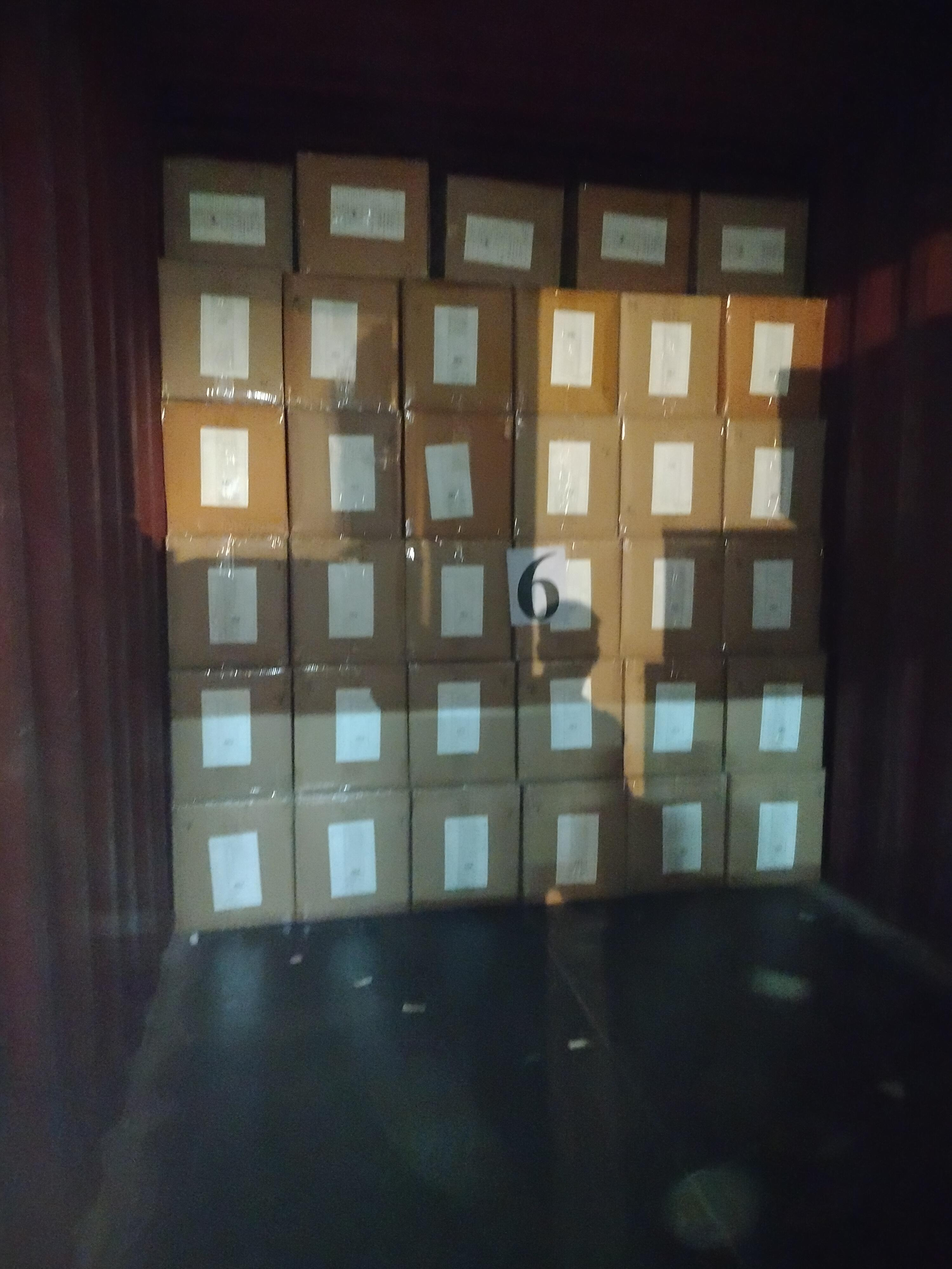carton: (159, 260, 283, 404), (162, 400, 288, 537), (295, 152, 429, 279), (170, 666, 293, 802), (172, 795, 294, 931), (283, 273, 399, 413), (167, 534, 288, 668), (294, 789, 410, 920), (289, 536, 406, 665), (163, 155, 293, 271), (400, 279, 512, 413), (287, 408, 403, 537), (293, 662, 408, 792), (404, 411, 514, 539), (513, 286, 621, 415), (513, 412, 621, 539), (514, 535, 623, 660), (412, 783, 520, 909), (444, 174, 563, 288), (408, 661, 516, 786), (718, 293, 825, 419), (620, 534, 725, 660), (618, 292, 721, 419), (517, 658, 623, 781), (406, 537, 511, 661), (523, 779, 627, 903), (619, 415, 725, 536), (576, 184, 691, 293), (623, 655, 726, 776), (723, 532, 823, 654), (722, 415, 826, 531), (626, 774, 727, 893), (724, 655, 825, 774), (696, 191, 809, 296), (727, 771, 825, 885)
